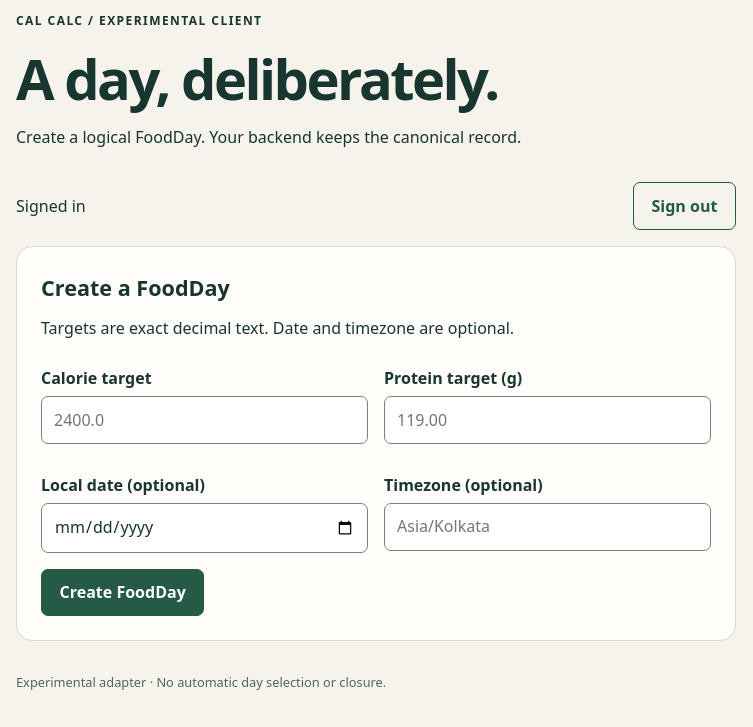
Test: experimental FoodDay client › handles HTTP 400 without exposing server errors
Expected: the heading "Create a FoodDay" is shown, left=41, top=273, right=230, bottom=302
Type "685.107500" into the field labelled "Calorie target" at [204, 420], box left=41, top=396, right=368, bottom=444
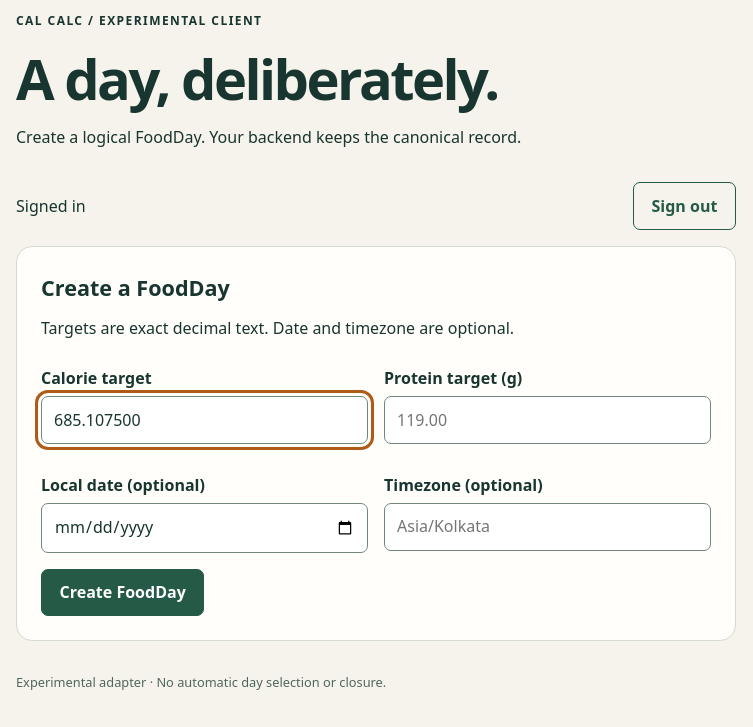
Type "41.002500" into the field labelled "Protein target (g)" at [548, 420], box left=384, top=396, right=711, bottom=444
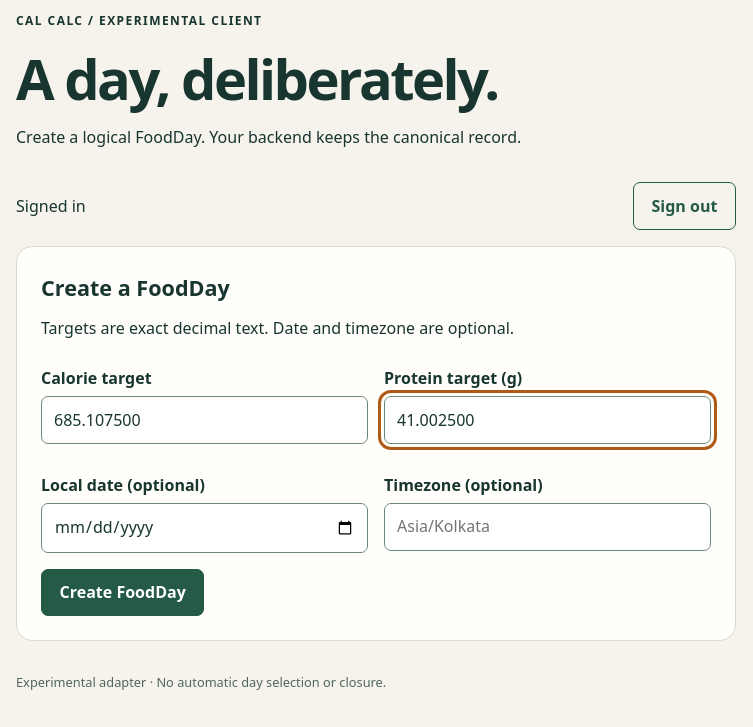
Click the button "Create FoodDay" at [123, 592], box left=41, top=569, right=204, bottom=616
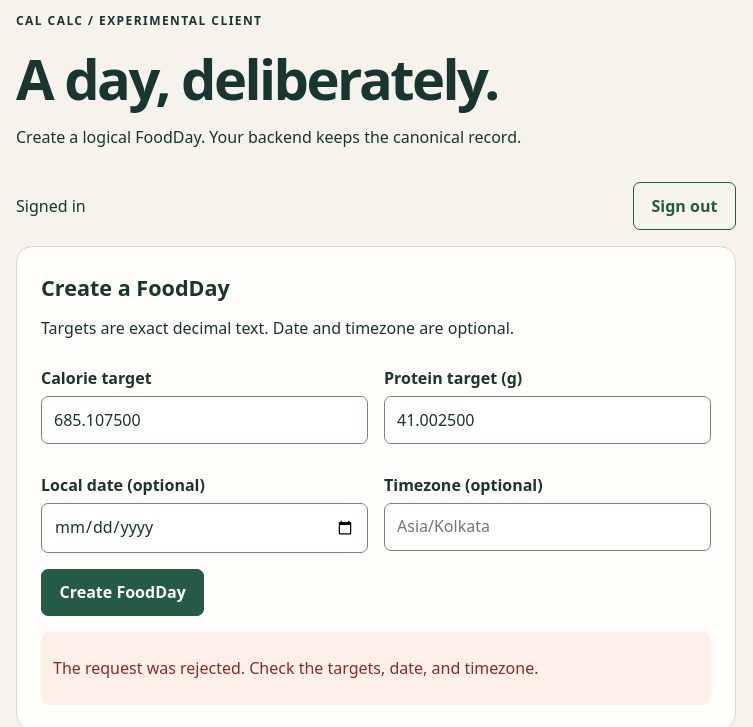
Expected: the message shows "The request was rejected", left=53, top=657, right=538, bottom=679
